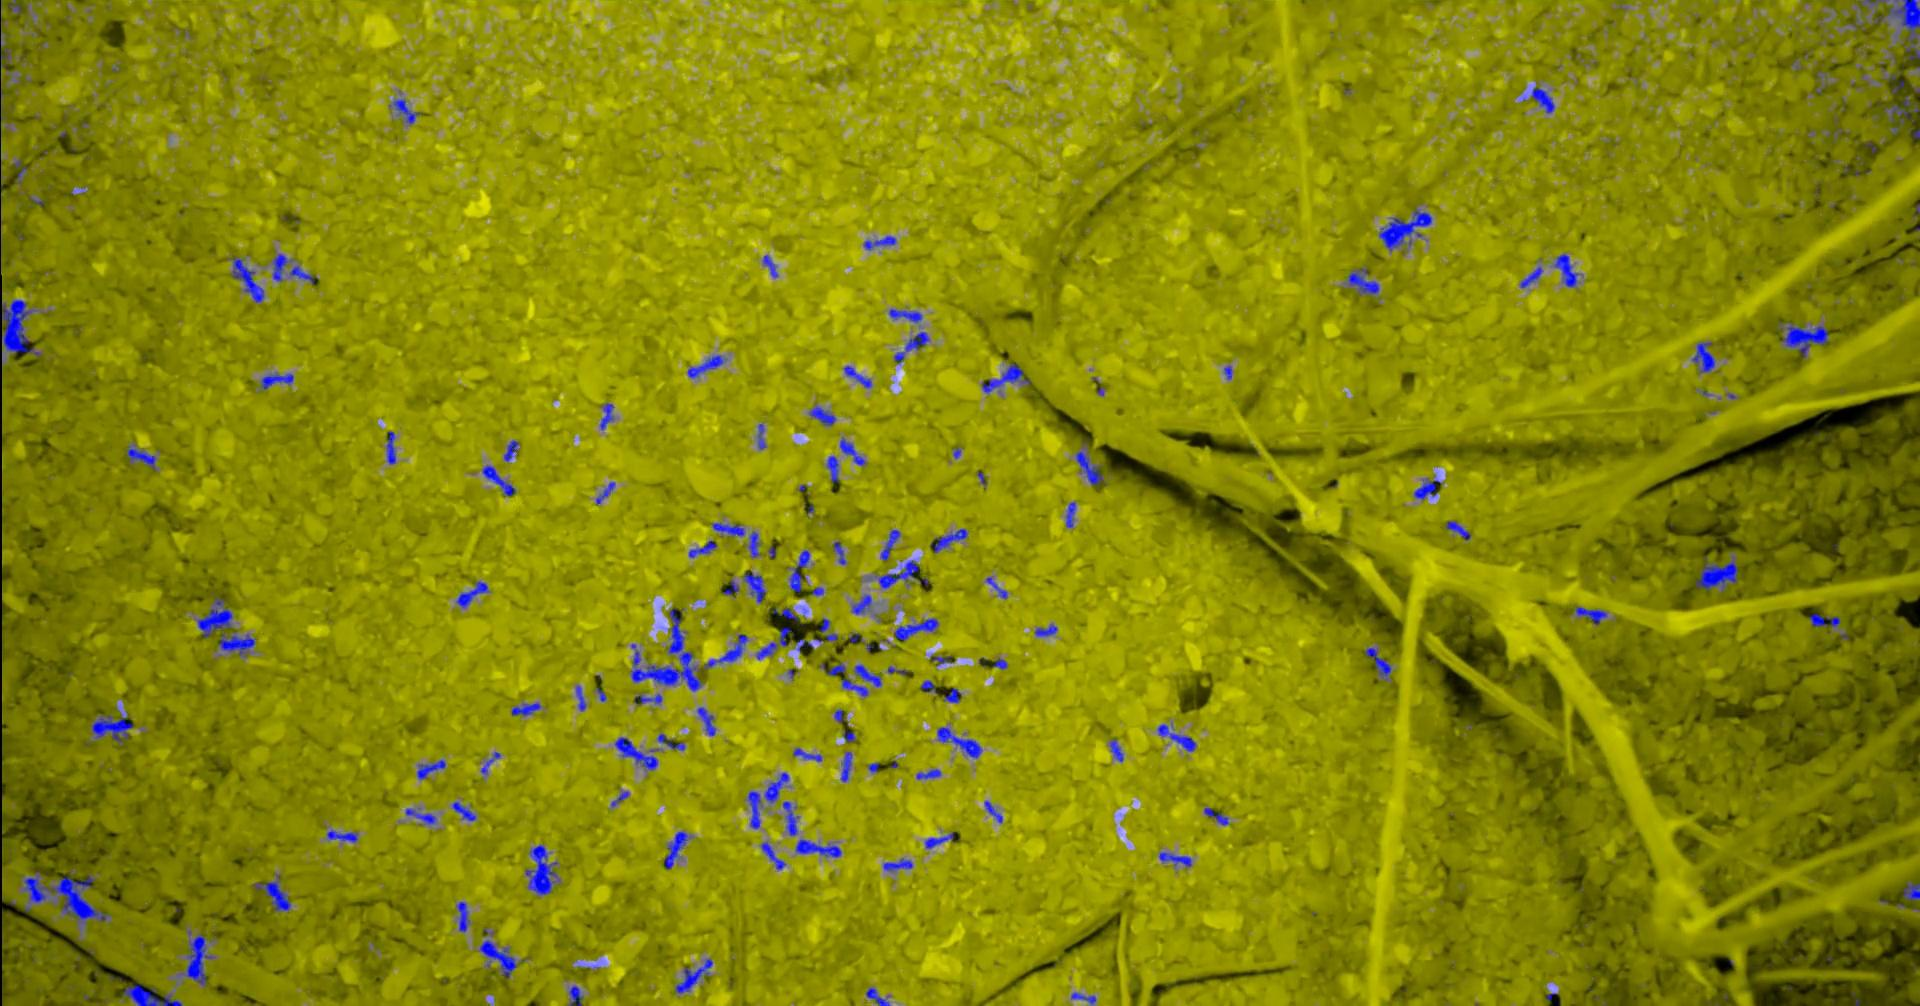ant: (1873, 0, 1919, 58), (747, 772, 789, 828), (1378, 208, 1431, 251), (479, 927, 516, 977), (1777, 321, 1827, 357), (524, 843, 559, 895), (182, 934, 213, 984), (703, 633, 747, 669), (231, 257, 264, 302), (936, 727, 982, 758), (122, 981, 182, 1005), (1695, 556, 1737, 591), (615, 735, 658, 768), (982, 363, 1030, 392), (674, 958, 712, 993), (253, 874, 290, 909), (874, 559, 918, 588), (91, 714, 132, 743), (756, 626, 791, 659), (893, 332, 930, 363), (481, 464, 516, 495), (1076, 451, 1106, 485), (1883, 95, 1919, 124), (1157, 724, 1195, 751), (894, 619, 938, 640), (930, 528, 968, 553), (455, 580, 488, 607), (1364, 647, 1390, 680), (789, 549, 809, 592), (1553, 253, 1578, 287), (687, 354, 725, 377), (664, 831, 687, 869), (1347, 268, 1378, 295), (795, 840, 841, 857), (392, 98, 422, 123), (126, 445, 155, 470), (839, 437, 865, 465), (759, 841, 785, 869), (1691, 342, 1714, 372), (742, 572, 764, 602), (1530, 86, 1554, 113), (843, 365, 871, 387), (880, 528, 899, 560), (1413, 478, 1441, 499), (855, 664, 881, 686), (1575, 606, 1606, 624), (813, 619, 837, 641), (260, 372, 293, 389), (272, 253, 291, 281), (808, 406, 836, 426), (696, 708, 715, 735), (417, 760, 444, 779), (1445, 520, 1470, 540), (888, 307, 921, 323), (782, 801, 797, 835), (405, 808, 436, 824), (1158, 851, 1191, 866), (290, 265, 317, 283), (688, 540, 716, 558), (841, 678, 869, 696), (924, 831, 952, 848), (1519, 265, 1542, 287), (863, 235, 895, 250), (1203, 807, 1228, 826), (985, 577, 1007, 598), (480, 751, 500, 774), (711, 522, 744, 536), (657, 733, 684, 749), (451, 801, 475, 821), (596, 481, 615, 504), (865, 987, 889, 1005), (599, 401, 615, 429), (1808, 614, 1839, 627), (510, 702, 540, 716), (792, 747, 822, 761), (9, 159, 25, 183), (851, 594, 871, 614), (326, 829, 357, 842), (456, 901, 469, 931), (984, 800, 1002, 822), (883, 857, 912, 870), (772, 607, 797, 621), (762, 254, 777, 277), (825, 455, 838, 481), (503, 439, 518, 461), (748, 530, 759, 558), (832, 541, 846, 564), (1109, 738, 1123, 761), (1902, 882, 1919, 901), (841, 751, 851, 781), (568, 984, 583, 1005), (1070, 992, 1095, 1005), (0, 41, 11, 67), (632, 694, 662, 704), (386, 431, 395, 464), (1034, 624, 1057, 636), (610, 791, 629, 807), (1065, 500, 1076, 527), (575, 685, 585, 711), (943, 687, 961, 702), (916, 768, 940, 779), (825, 662, 844, 674), (919, 680, 936, 694), (723, 580, 738, 594), (931, 655, 951, 666), (757, 423, 764, 448), (1857, 0, 1887, 5), (992, 658, 1007, 668), (842, 730, 855, 741)
